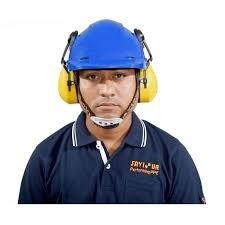helmet: (65, 18, 150, 73)
person with partial safety: (14, 19, 207, 203)
